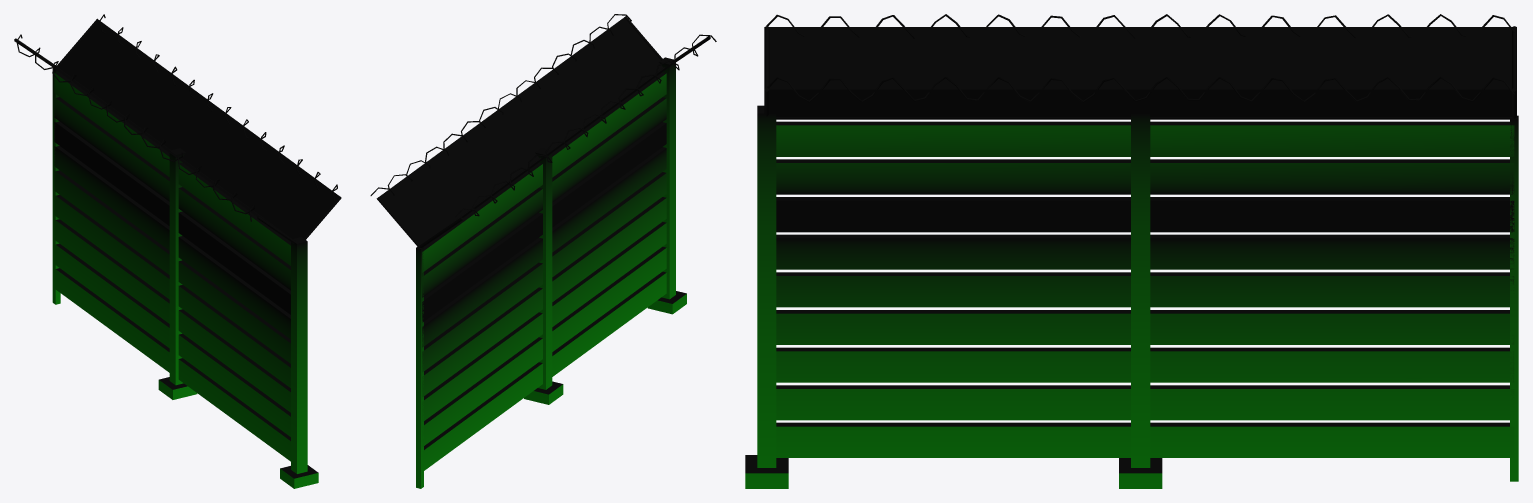
File: razorwirefence.glb
3 views of the same model, side by side, from view 1: azimuth 30°, elevation 25°; view 2: azimuth 150°, elevation 25°; view 3: azimuth 270°, elevation 25° (orthographic). The views are drawn at different scales.
Visible parts, largest first — view 1: lod0; view 2: lod0; view 3: lod0.
Part boxes in pixels (x1=…): lod0: x1=14, y1=14, x2=341, y2=488; lod0: x1=370, y1=14, x2=716, y2=488; lod0: x1=745, y1=14, x2=1518, y2=488.
Size of what is drawn, in the model's own units: 2 by 5.5 by 8.9.
